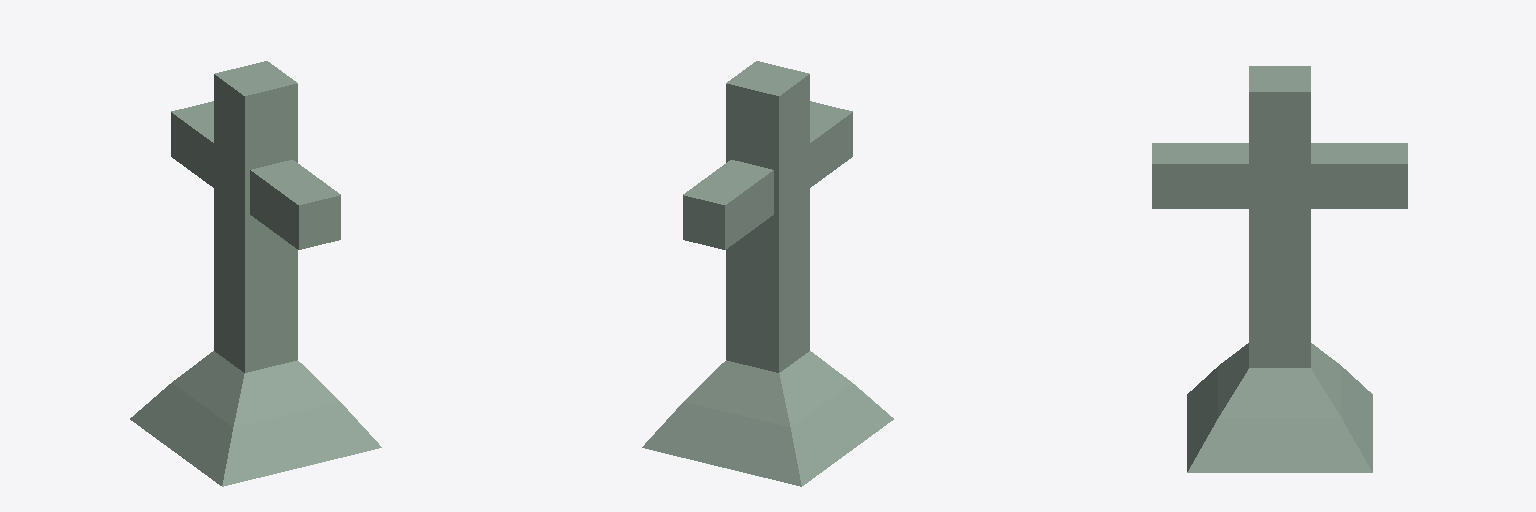
File: cruz.obj
The picture shows the model from 3 angles: view 1: azimuth 30°, elevation 25°; view 2: azimuth 150°, elevation 25°; view 3: azimuth 270°, elevation 25°; orthographic projection.
Visible parts, largest first — view 1: Cube.001_Cube.001; view 2: Cube.001_Cube.001; view 3: Cube.001_Cube.001.
Part boxes in pixels (x1,y1,x2,y2): Cube.001_Cube.001: (130,61,381,486); Cube.001_Cube.001: (642,61,893,486); Cube.001_Cube.001: (1152,66,1407,472).
Bounding box in the file's own units: 6.71 × 14.2 × 9.3.